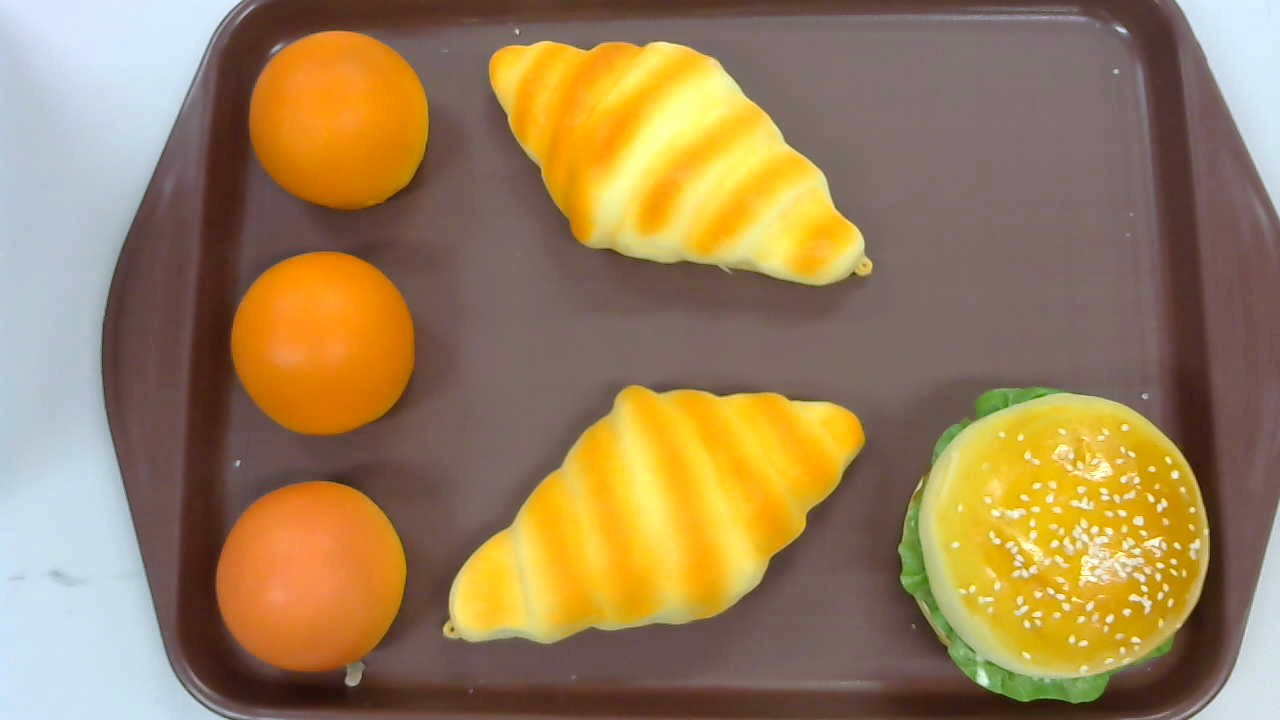bun: (216, 481, 405, 672), (229, 251, 414, 438), (248, 30, 428, 209)
croissant: (442, 384, 866, 645), (488, 39, 875, 286)
hamburger: (898, 387, 1210, 703)
